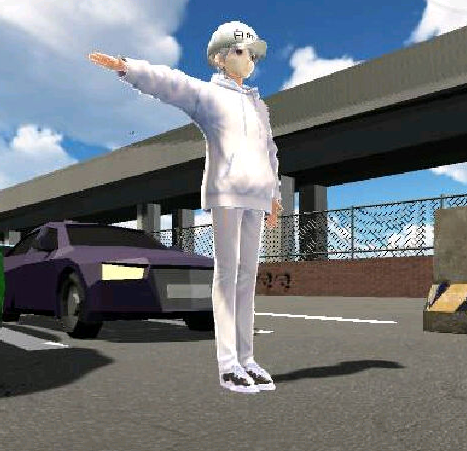singleP_left: (78, 8, 295, 399)
